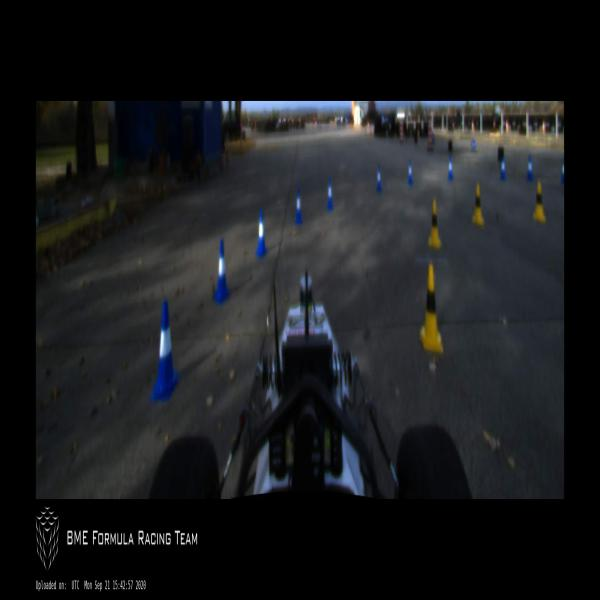blue_cone: (149, 299, 180, 402), (214, 239, 230, 305), (256, 208, 267, 258), (294, 187, 303, 225), (326, 178, 333, 211), (375, 164, 382, 192), (447, 157, 454, 181), (408, 158, 414, 184), (527, 155, 533, 181), (500, 156, 506, 180), (561, 160, 564, 186)
yellow_cone: (420, 264, 443, 354), (428, 199, 442, 250), (532, 180, 546, 224), (472, 184, 484, 226)
